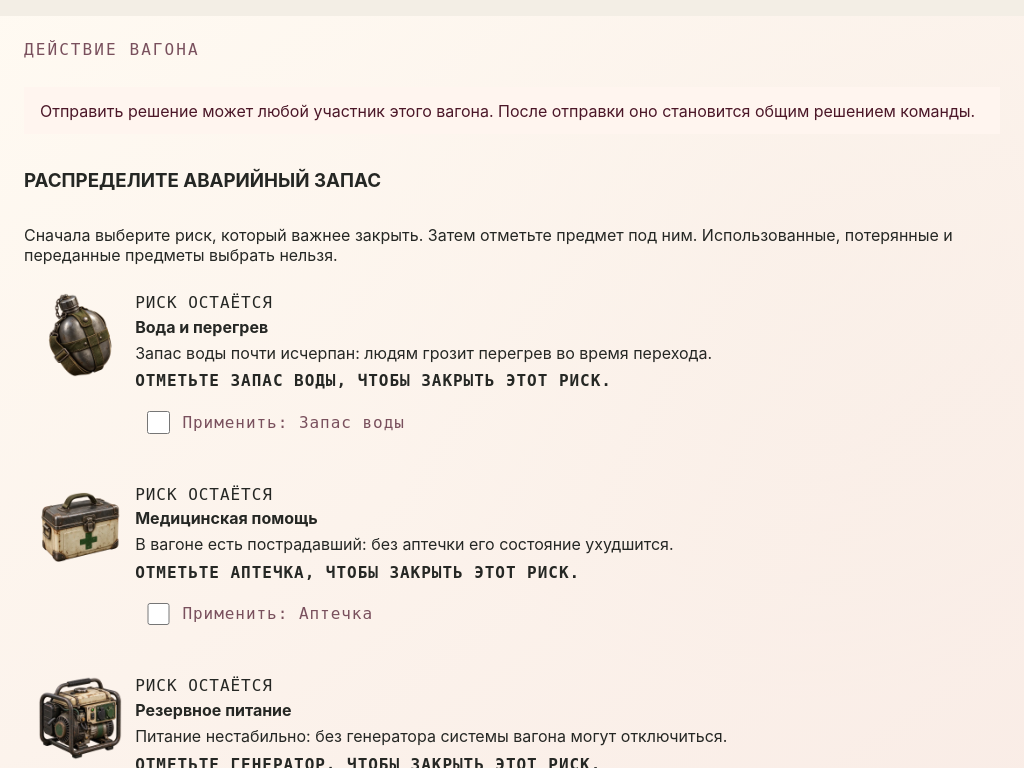
Test: global Bunker phone mission actions › shows five M03 risks and updates the chosen-item preview before submission
Expected: the list named "Риски вагона" shows "Вода и перегрев", [135, 317, 268, 337]
Expected: the list named "Риски вагона" shows "медицинская помощь", [135, 508, 318, 528]
Click the checkbox labelled "Применить: Запас воды". click: (158, 422)
box: [147, 411, 170, 434]
(page scrolled)
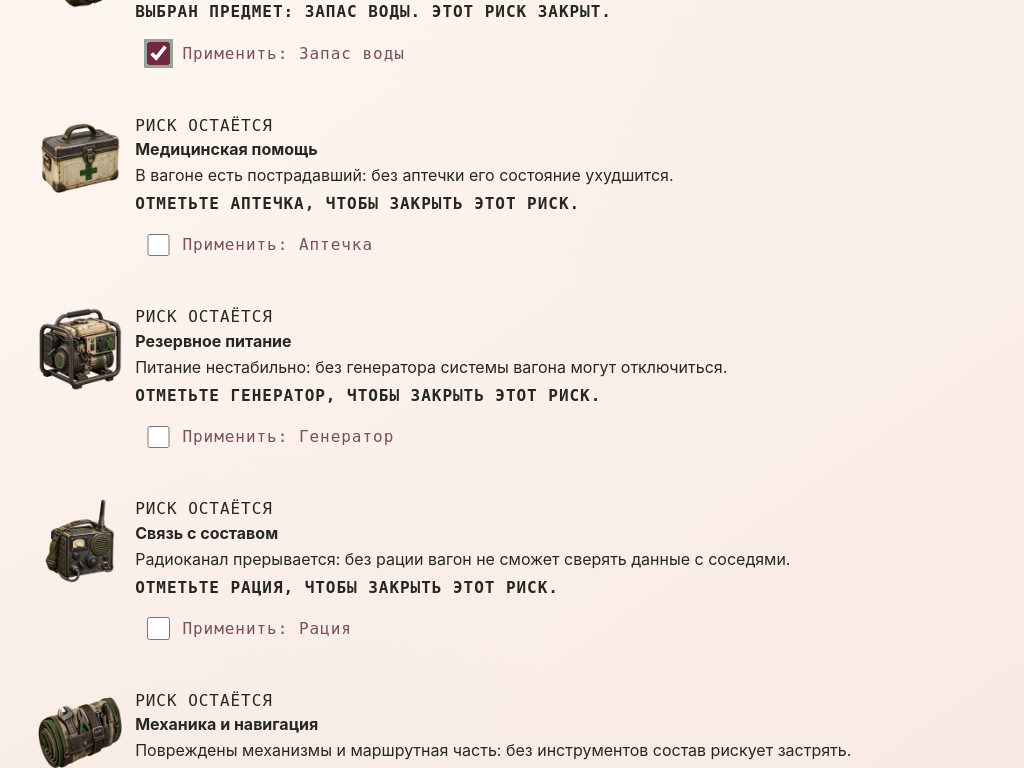
Result: the list named "Риски вагона" shows "выбран предмет: запас воды. этот риск закрыт" at [135, 2, 612, 21]
